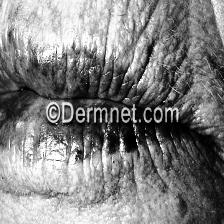Benign Marking or Mole: (108, 127, 146, 159)
